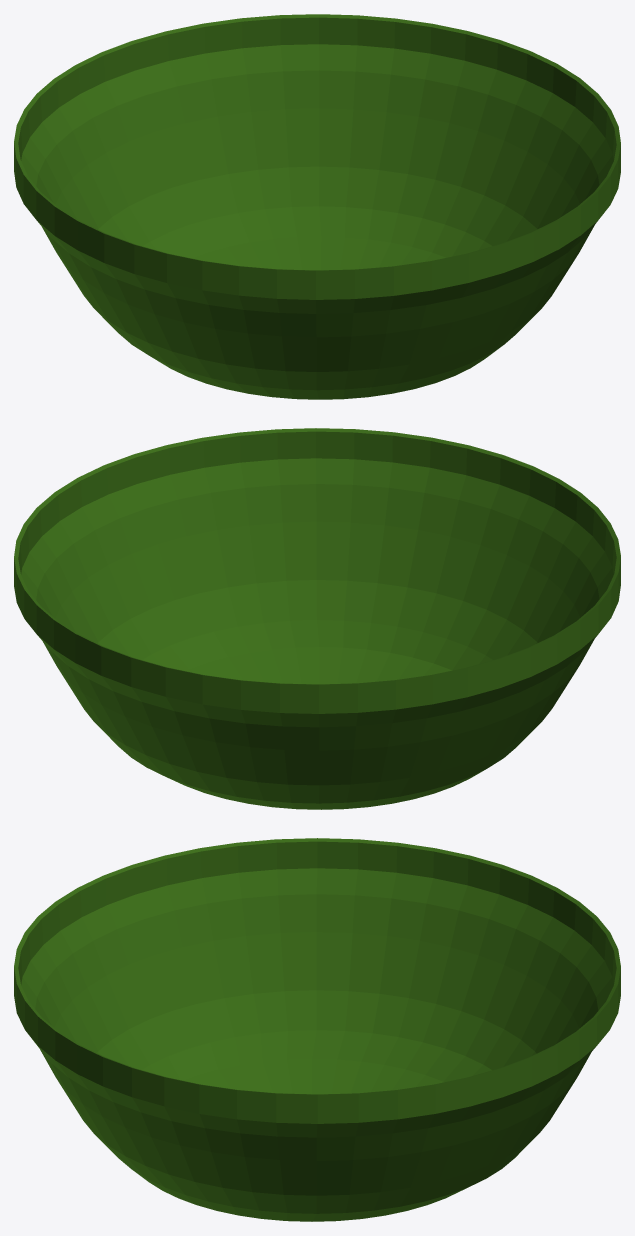
Rendered from OBJEK10.fbx.
3 renders of one model, top to bottom at view 1: azimuth 30°, elevation 25°; view 2: azimuth 150°, elevation 25°; view 3: azimuth 270°, elevation 25°, orthographic.
Visible parts, largest first — view 1: BézierCircle.001; view 2: BézierCircle.001; view 3: BézierCircle.001.
Boxes of the visible parts, left/top/right/bottom form: BézierCircle.001: left=14, top=14, right=620, bottom=399; BézierCircle.001: left=14, top=428, right=620, bottom=809; BézierCircle.001: left=14, top=838, right=620, bottom=1221.
Bounding box in the file's own units: 200 × 79.13 × 200.
